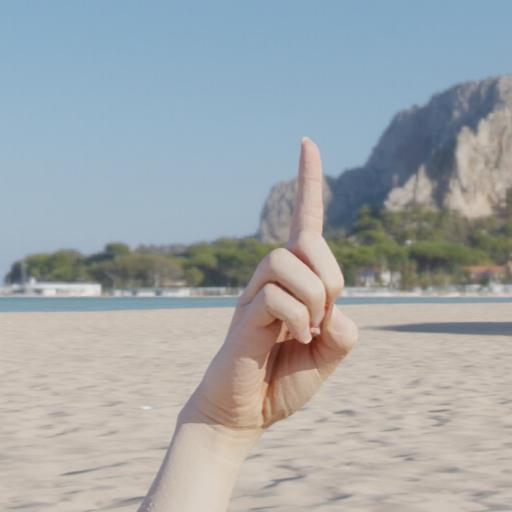D: (198, 120, 373, 432)
